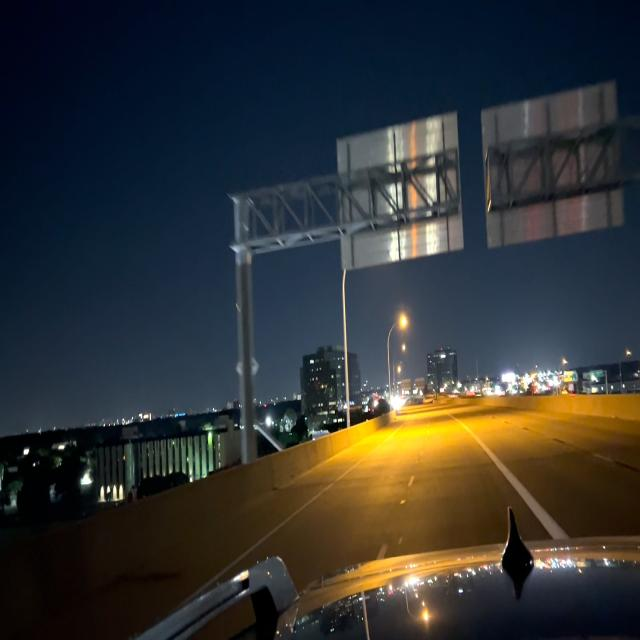back-of-sign: (481, 92, 632, 252), (337, 116, 464, 266)
